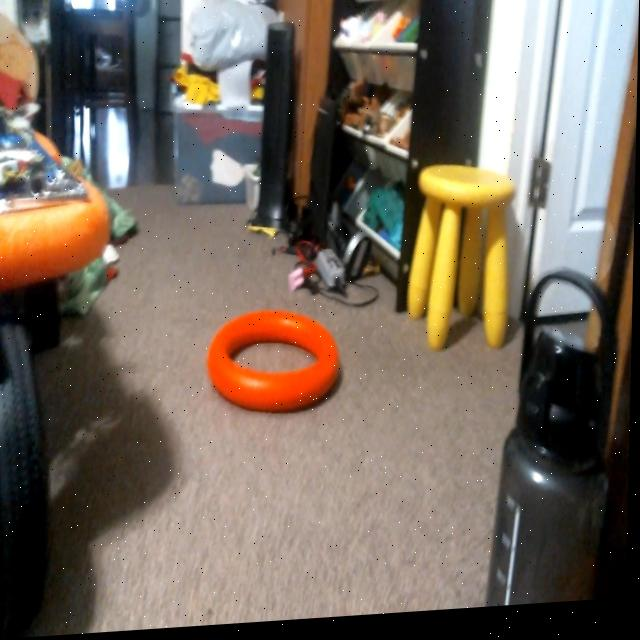note: (206, 308, 342, 424)
